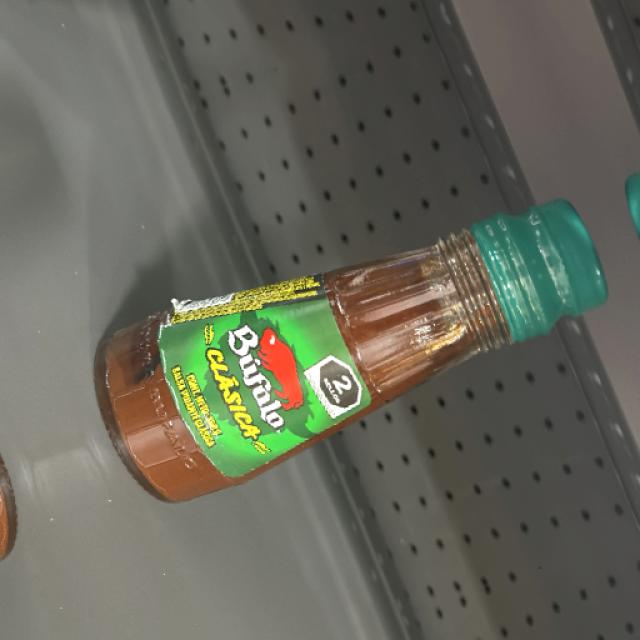salsaBufalo: (89, 262, 611, 444)
